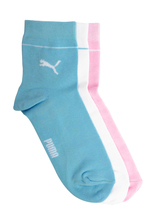sock: (10, 15, 146, 207)
